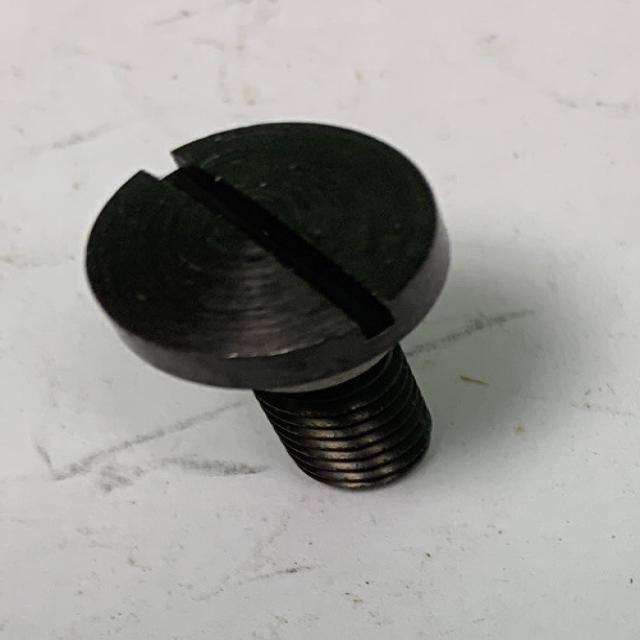duz: (83, 120, 444, 386)
